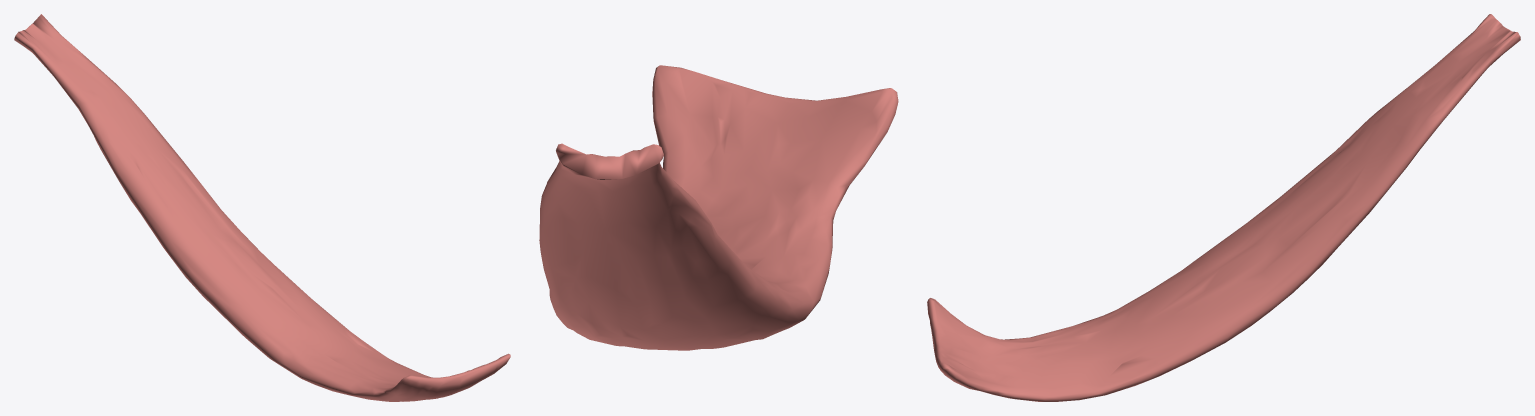
3 views of the same model, side by side, from view 1: azimuth 30°, elevation 25°; view 2: azimuth 150°, elevation 25°; view 3: azimuth 270°, elevation 25° (orthographic). The views are drawn at different scales.
Parts seen in each view (by area): view 1: ZA_ca9498dbeccca563; view 2: ZA_ca9498dbeccca563; view 3: ZA_ca9498dbeccca563.
Part boxes in pixels (x1,y1,x2,y2): ZA_ca9498dbeccca563: (14,14,510,401); ZA_ca9498dbeccca563: (539,65,898,350); ZA_ca9498dbeccca563: (927,14,1520,401).
Bounding box in the file's own units: 0.0222 × 0.0218 × 0.0414.
